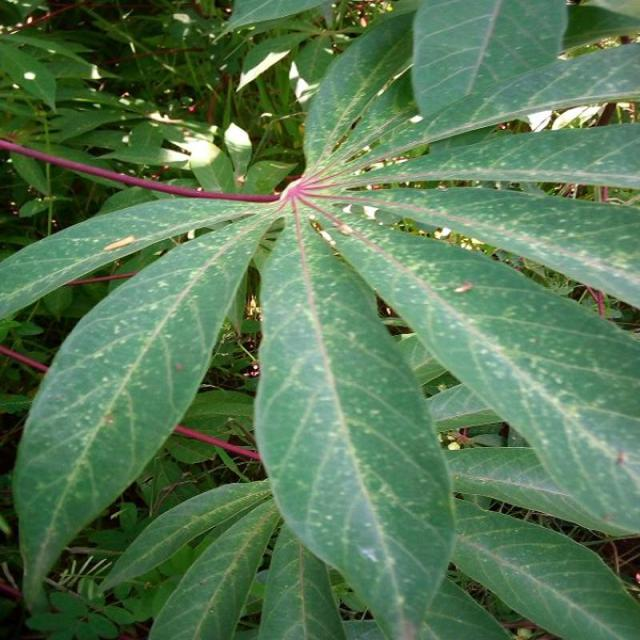cassava leaf: (2, 0, 638, 638), (11, 198, 282, 614), (252, 195, 457, 638)
